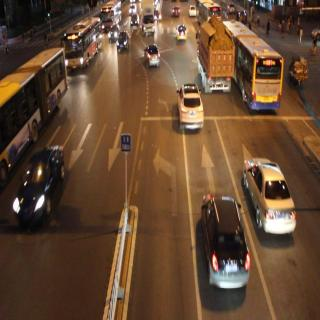BigCar: (192, 15, 237, 99), (63, 12, 104, 77)
Car: (190, 188, 253, 291), (237, 150, 301, 242), (12, 140, 64, 236), (173, 77, 206, 135), (140, 38, 162, 72), (115, 26, 130, 57), (175, 18, 187, 44)
